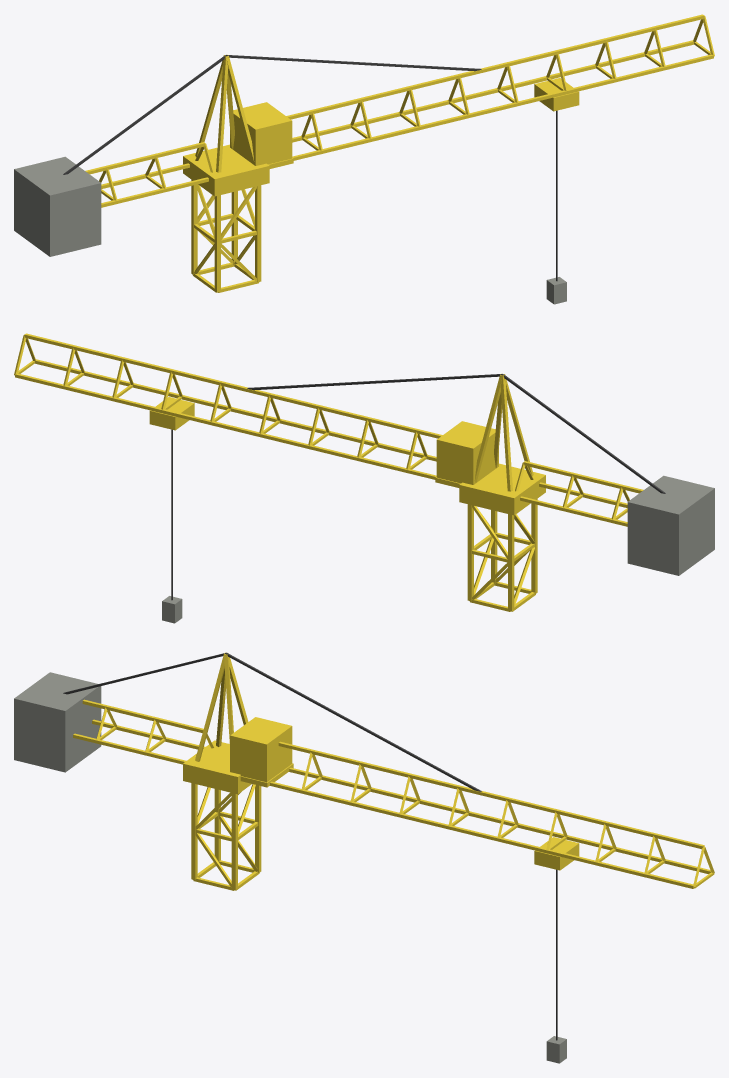
File: crane-top.fbx
3 renders of one model, top to bottom at view 1: azimuth 30°, elevation 25°; view 2: azimuth 150°, elevation 25°; view 3: azimuth 330°, elevation 25°, orthographic.
Parts seen in each view (by area): view 1: Crane_top; view 2: Crane_top; view 3: Crane_top.
Boxes of the visible parts, x1=… form: Crane_top: x1=14, y1=14, x2=714, y2=304; Crane_top: x1=14, y1=333, x2=714, y2=623; Crane_top: x1=14, y1=652, x2=714, y2=1063.
Bounding box in the file's own units: 27.5 × 12.71 × 2.55.
